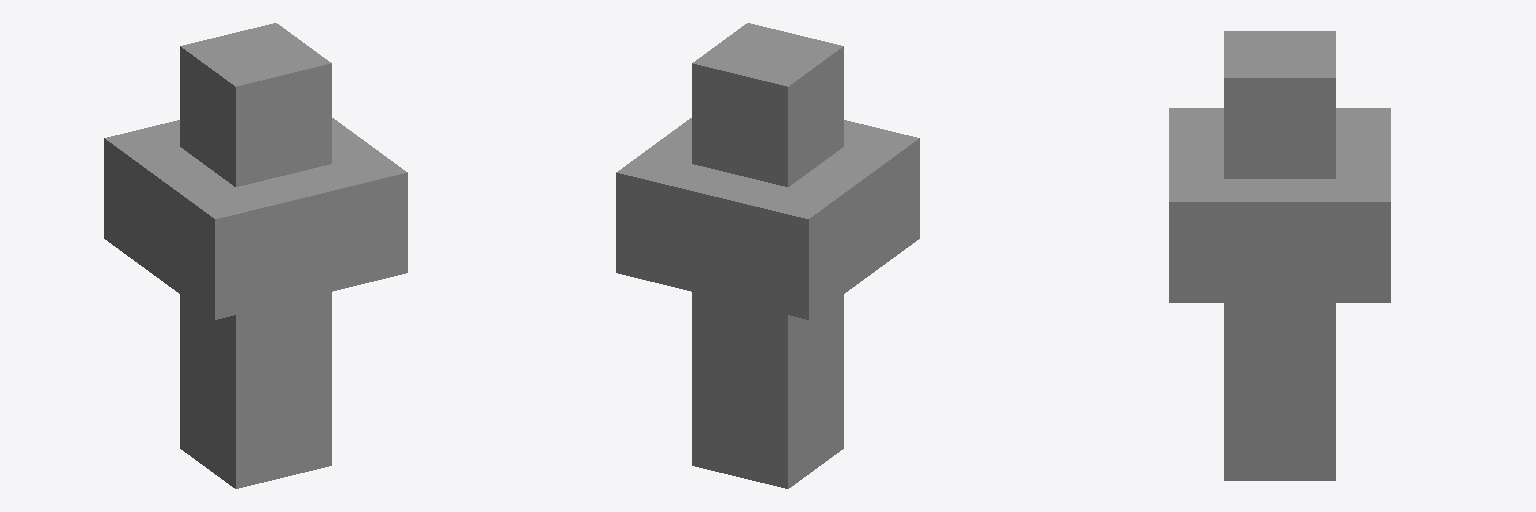
The model's file is decocoil.obj.
The picture shows the model from 3 angles: view 1: azimuth 30°, elevation 25°; view 2: azimuth 150°, elevation 25°; view 3: azimuth 270°, elevation 25°; orthographic projection.
Visible parts, largest first — view 1: Cube; view 2: Cube; view 3: Cube.
Boxes of the visible parts, x1,y1,x2,y2 form: Cube: [104, 23, 407, 488]; Cube: [616, 23, 919, 488]; Cube: [1169, 31, 1390, 480].
Size of the model in its own units: 0.5 by 1 by 0.5.